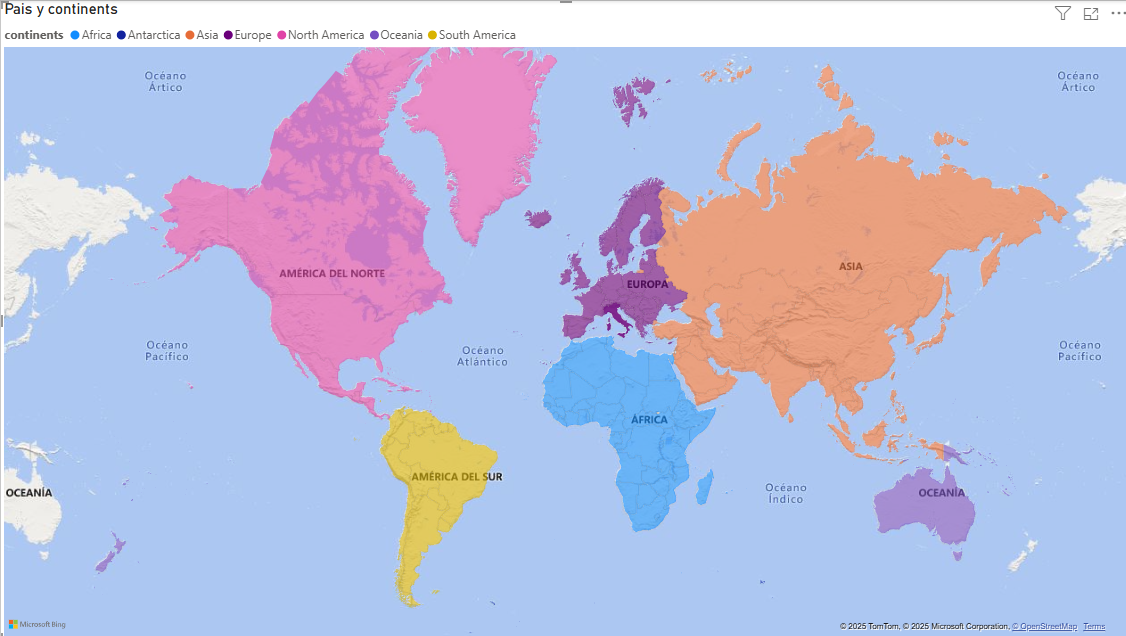

What the dashboard file says about the page in this screenshot:
{"tool":"powerbi","page":{"name":"Continentes","canvas":[1280,720],"ordinal":2},"visuals":[{"type":"filledMap","fields":{"Category":["countries.country_names.common_name"],"Series":["country_continents.continents"]},"box":[10.1,0,1269.9,720.2],"z":0}]}

Visuals, with their boxes on the page's 1280x720 design canvas (x1, y1, x2, y2). These are canvas units, not pixel positions in the 1126x636 screenshot, which may show the page scaled, cropped or inside an application window:
filledMap - countries.country_names.common_name x country_continents.continents: 10,0,1280,720
